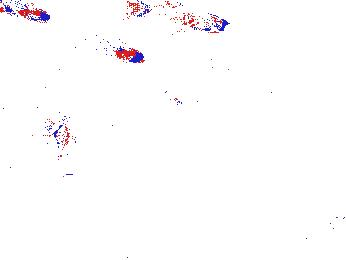X-ray fish: (41, 112, 73, 155)
glassfish: (196, 54, 301, 117)
red belly glassfish: (101, 37, 146, 66), (1, 1, 51, 25), (160, 84, 185, 106)
redtail glassfish: (124, 1, 231, 34)
